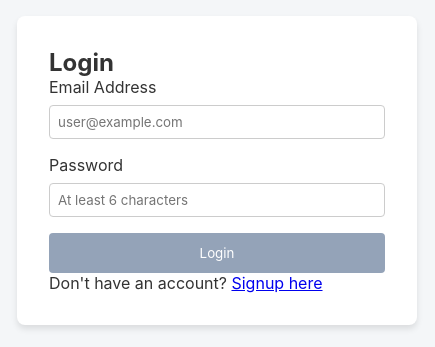
Authentication Flow and Asynchronous Tests › enables login submit button only when form is valid
The width and height of the screenshot is (435, 347).
Expected: the button "Login" is disabled, [49,233,385,273]
Type "test@example.com" into the field labelled "Email Address" at {"x": 217, "y": 122}, box [49,105,385,139]
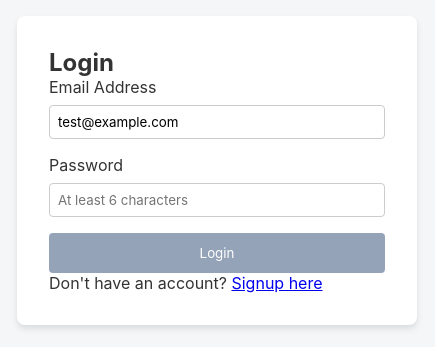
Type "password123" into the password field labelled "Password" at {"x": 217, "y": 200}, box [49,183,385,217]
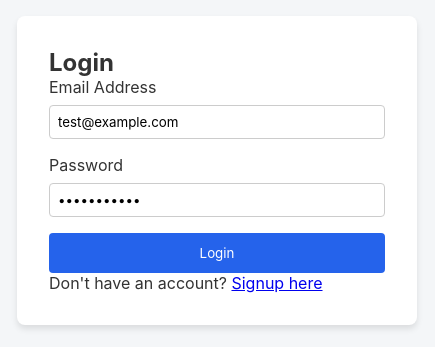
Now the button "Login" is enabled, box [49,233,385,273]
